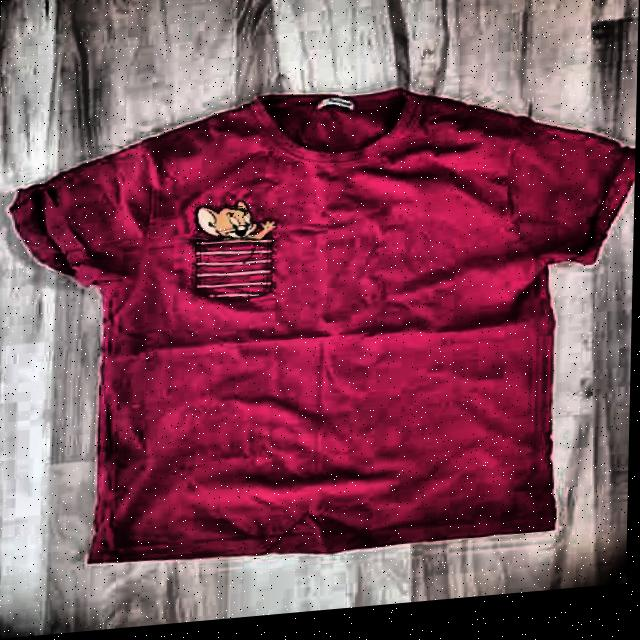clothes: (0, 54, 638, 586)
